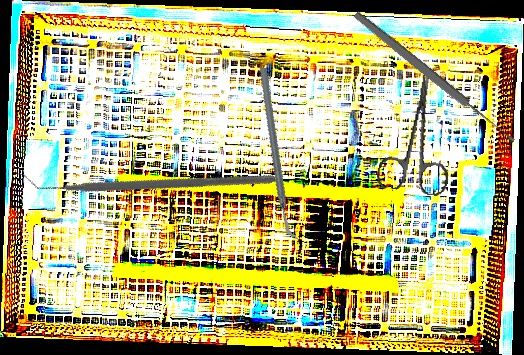Chopper: (22, 58, 277, 296), (219, 66, 339, 241)
Iris Scissors: (375, 68, 464, 198)
Surgical Spoon: (351, 9, 518, 147)
